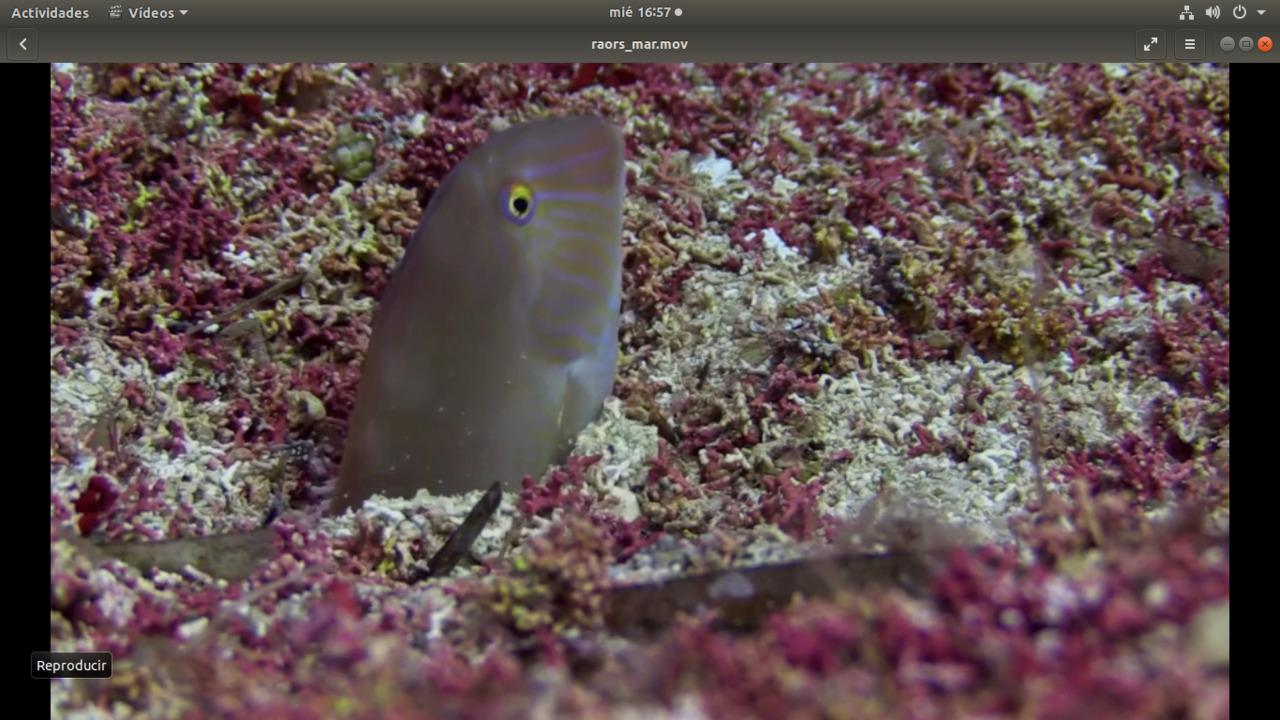raor: (333, 109, 633, 503)
